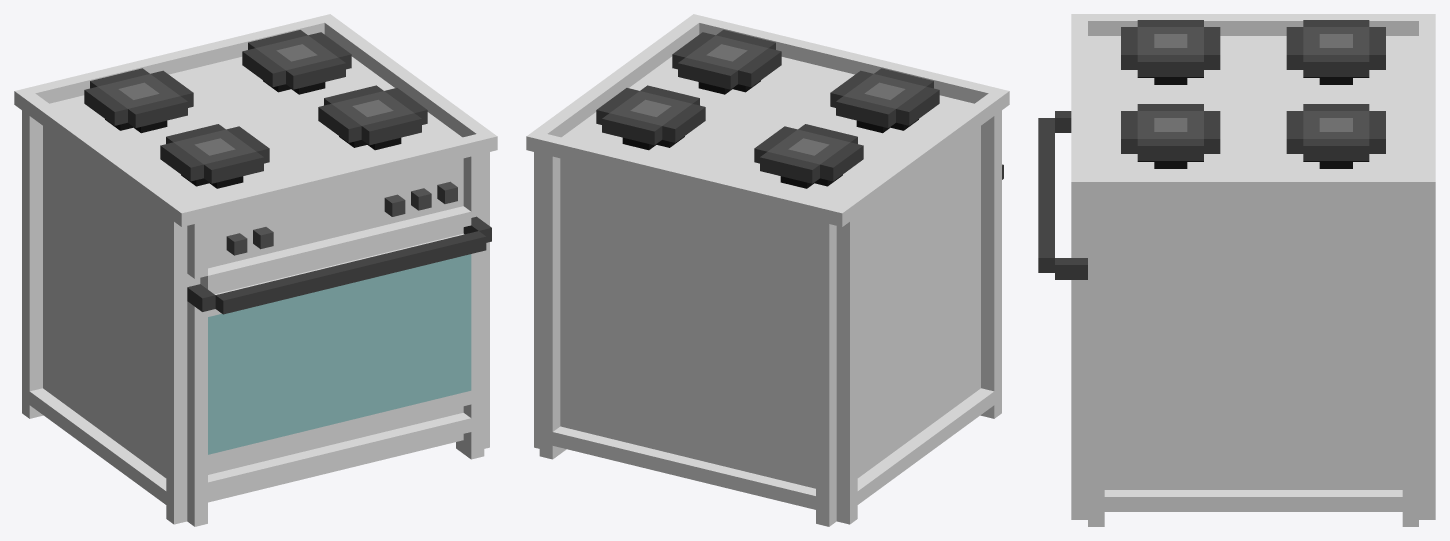
File: prop_oven.glb
3 views of the same model, side by side, from view 1: azimuth 30°, elevation 25°; view 2: azimuth 150°, elevation 25°; view 3: azimuth 270°, elevation 25° (orthographic). The views are drawn at different scales.
Visible parts, largest first — view 1: prop_oven; view 2: prop_oven; view 3: prop_oven.
Boxes of the visible parts, box(x1,y1,x2,y2) form: prop_oven: box(14, 14, 497, 526); prop_oven: box(526, 14, 1009, 526); prop_oven: box(1038, 14, 1435, 526).
Bounding box in the file's own units: 2.4 × 2.4 × 2.4.
Materials: 1 (1 with a texture image).
